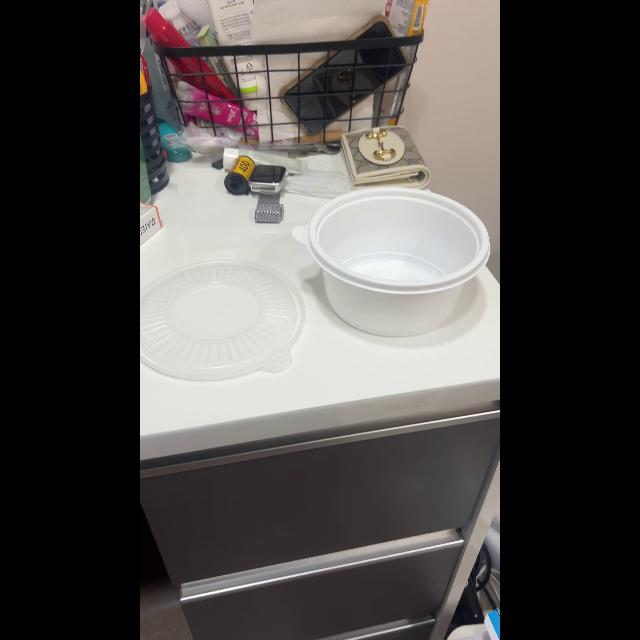clean: (313, 190, 487, 338), (147, 260, 306, 390)
